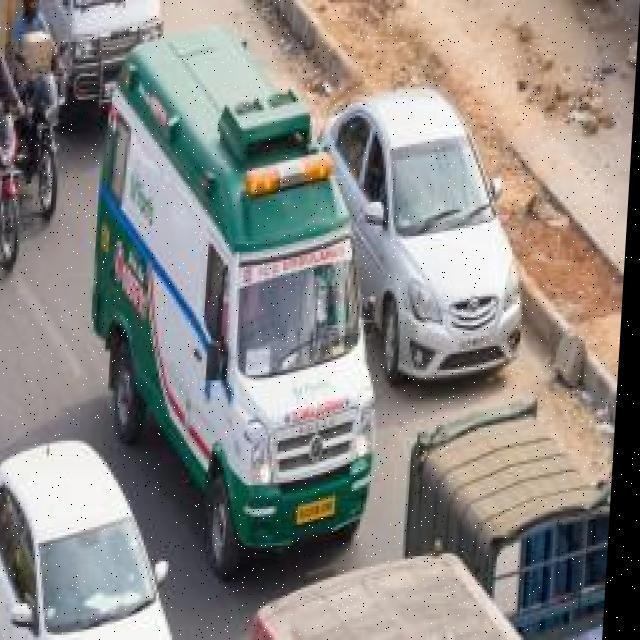Ambulance: (0, 0, 637, 637), (75, 21, 403, 580), (307, 82, 542, 388), (0, 436, 203, 638), (21, 0, 168, 126)
